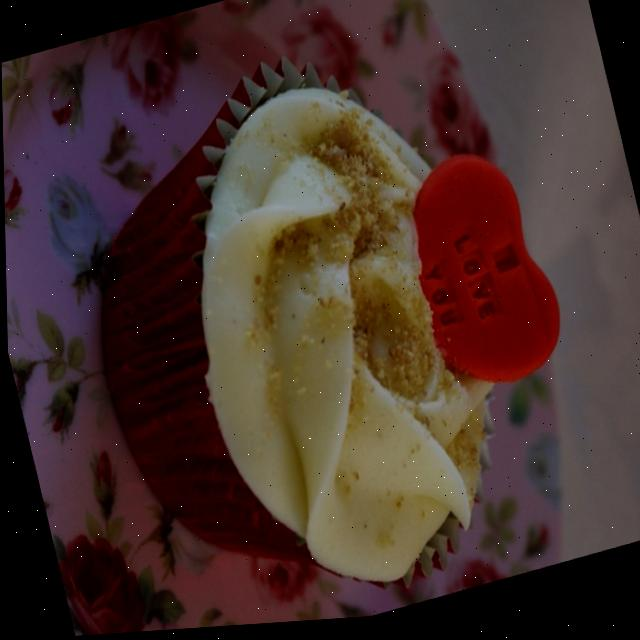蛋糕甜品: (0, 0, 608, 640)
